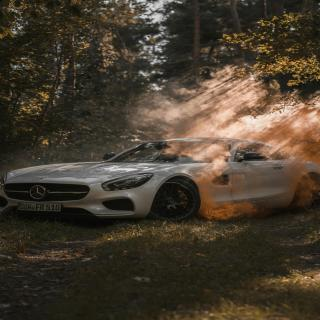Normal_vehicle: (0, 132, 320, 231)
